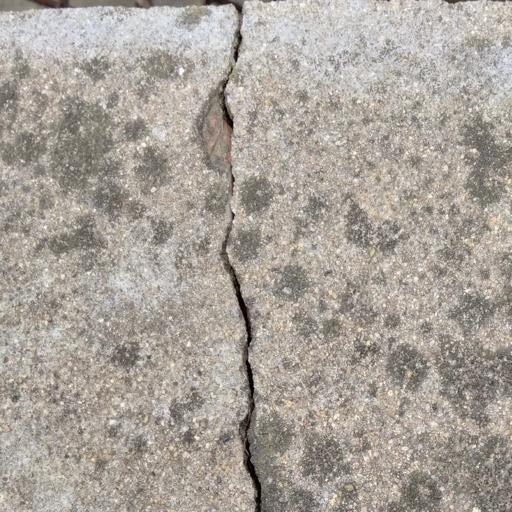major_crack: (200, 0, 290, 512)
